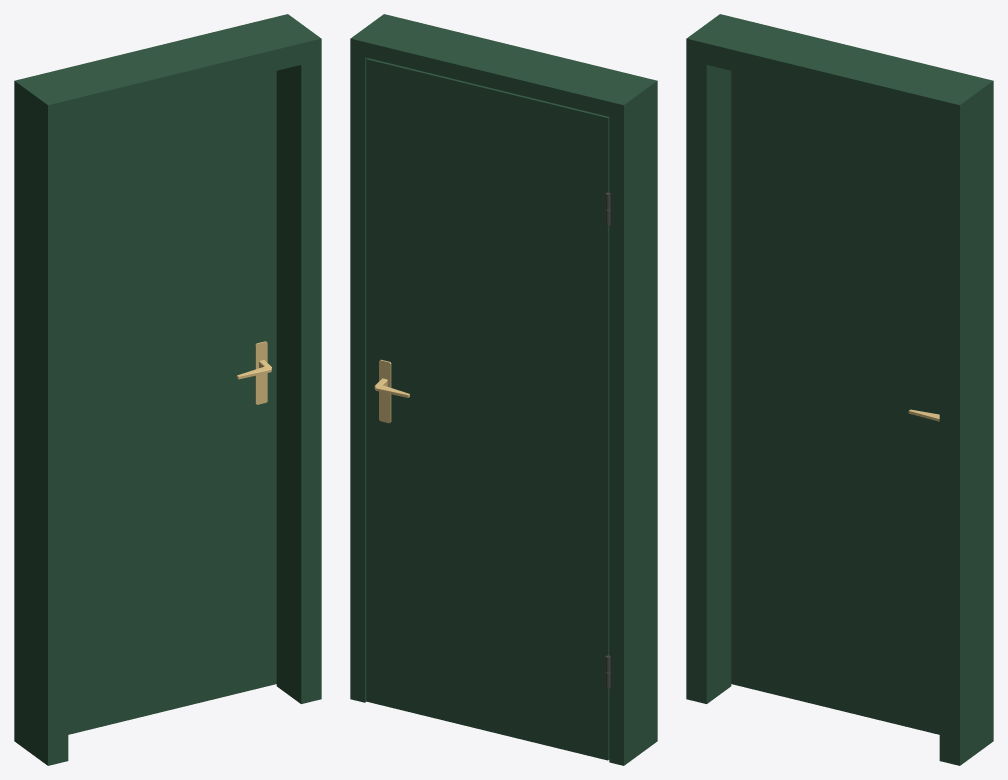
Rendered from porta_casa.glb.
The picture shows the model from 3 angles, left to right: view 1: azimuth 30°, elevation 25°; view 2: azimuth 150°, elevation 25°; view 3: azimuth 330°, elevation 25°; orthographic projection.
Visible parts, largest first — view 1: Porta_Anta, Porta_Telaio; view 2: Porta_Anta, Porta_Telaio; view 3: Porta_Anta, Porta_Telaio.
Part boxes in pixels (x1,y1,x2,y2): Porta_Anta: (68,71,276,734); Porta_Telaio: (14,14,321,765); Porta_Anta: (366,58,609,760); Porta_Telaio: (350,14,657,765); Porta_Anta: (731,71,939,734); Porta_Telaio: (686,14,993,765).
Bounding box in the file's own units: 0.9399 × 2.17 × 0.26.
